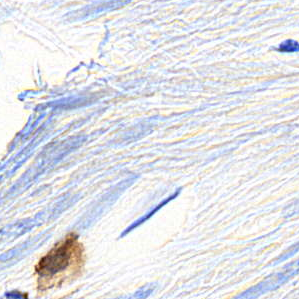Lymphocyte: (35, 231, 86, 282)
